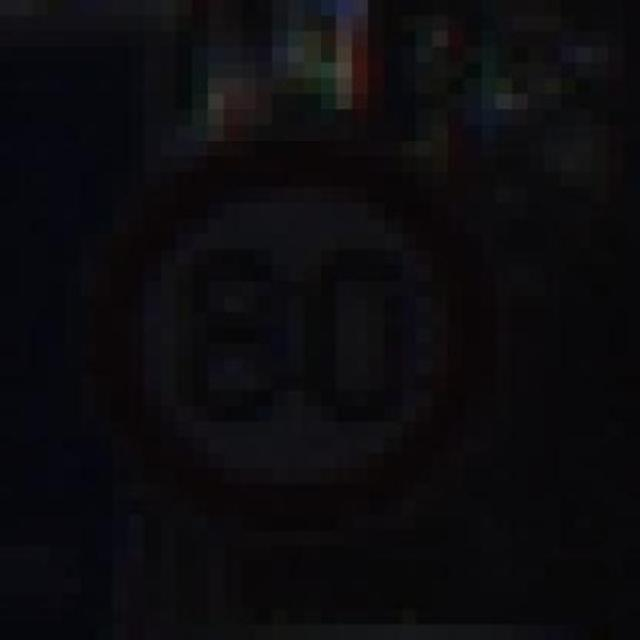forb_speed_over_80: (100, 142, 486, 530)
